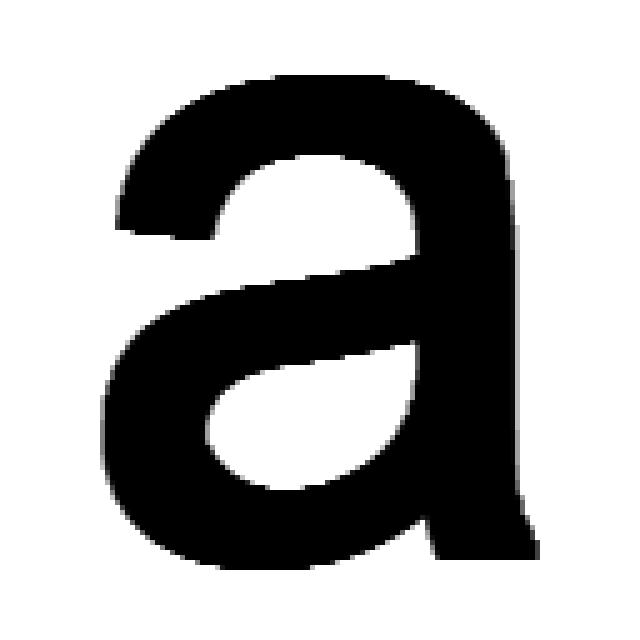A: (85, 60, 545, 575)
